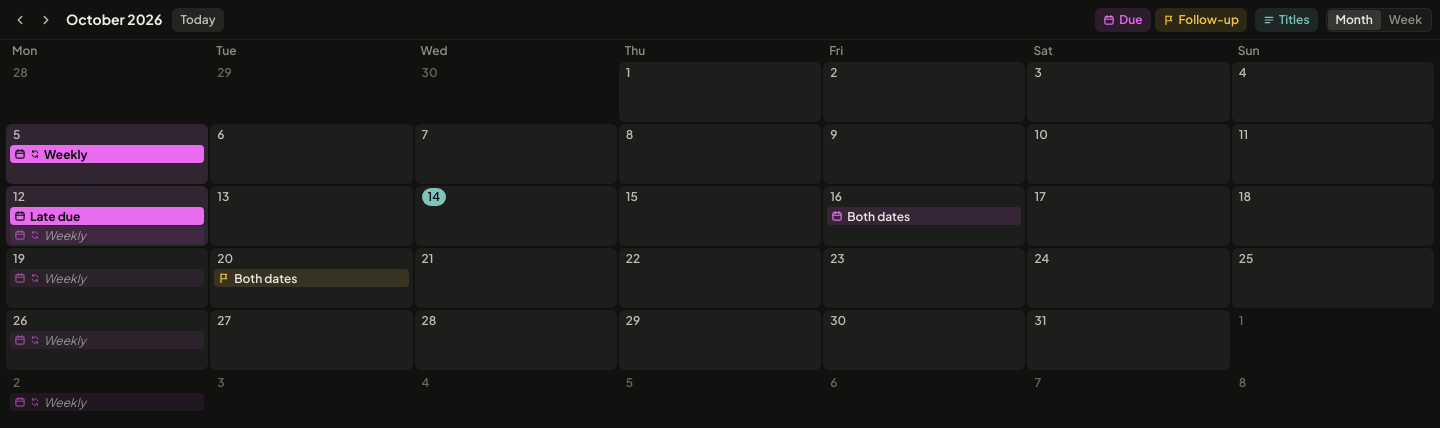
it: CalendarWidget › navigation and the view switch are view state (never unsaved)
Step 1. Click the button named "Next month" → (46, 20), box [34,8,58,32]
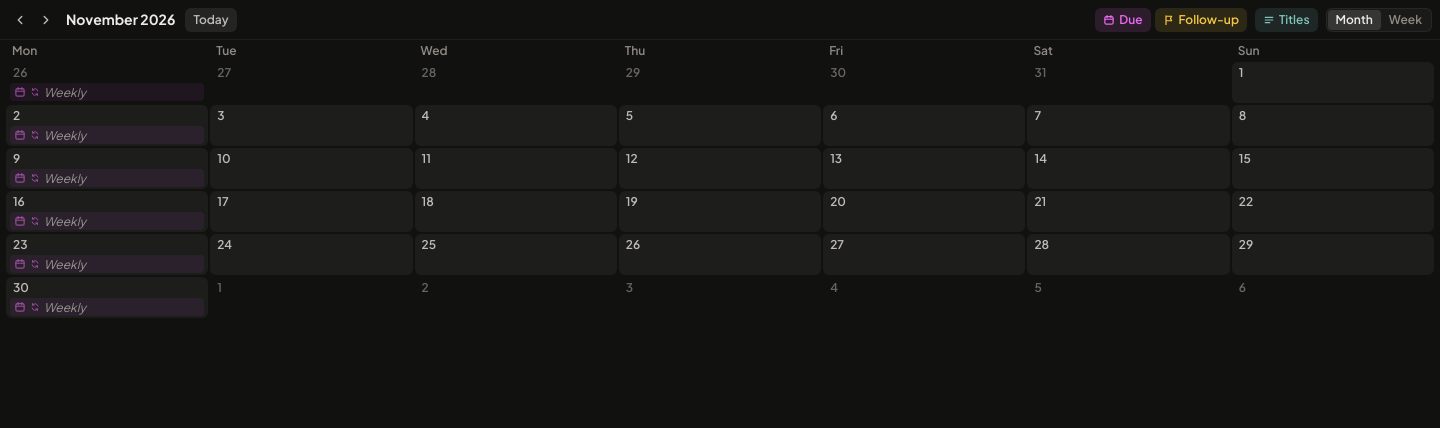
Expected: the text with test id "calendar-range-label" reads "November 2026", [66,10,175,28]
Step 2. Click the button "Today" → (211, 20), box [185,8,237,32]
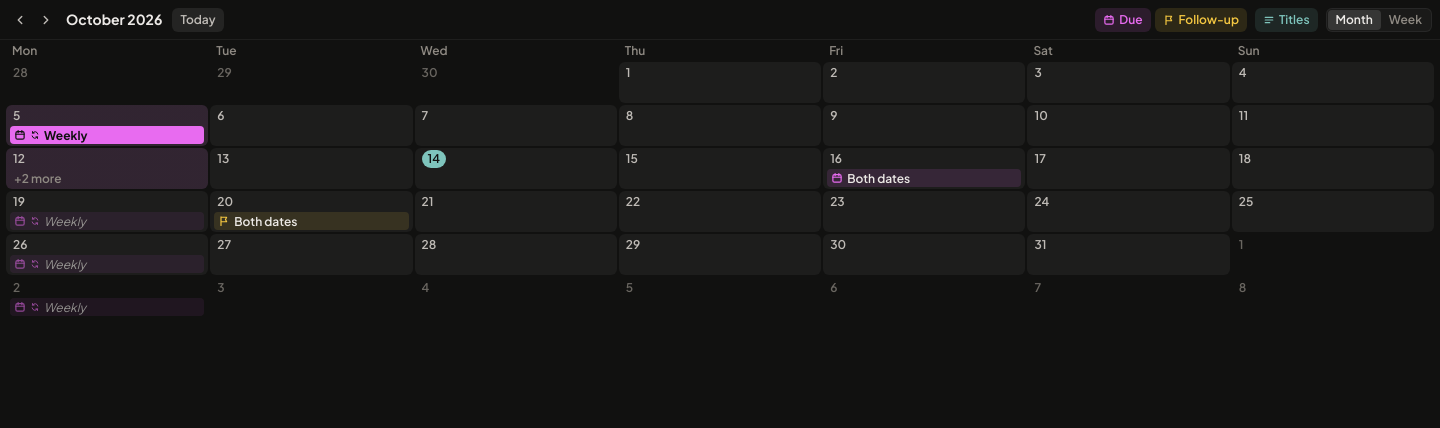
Expected: the text with test id "calendar-range-label" reads "October 2026", [66,10,162,28]
Step 3. Click the button "Week" → (1405, 20), box [1381,10,1430,30]
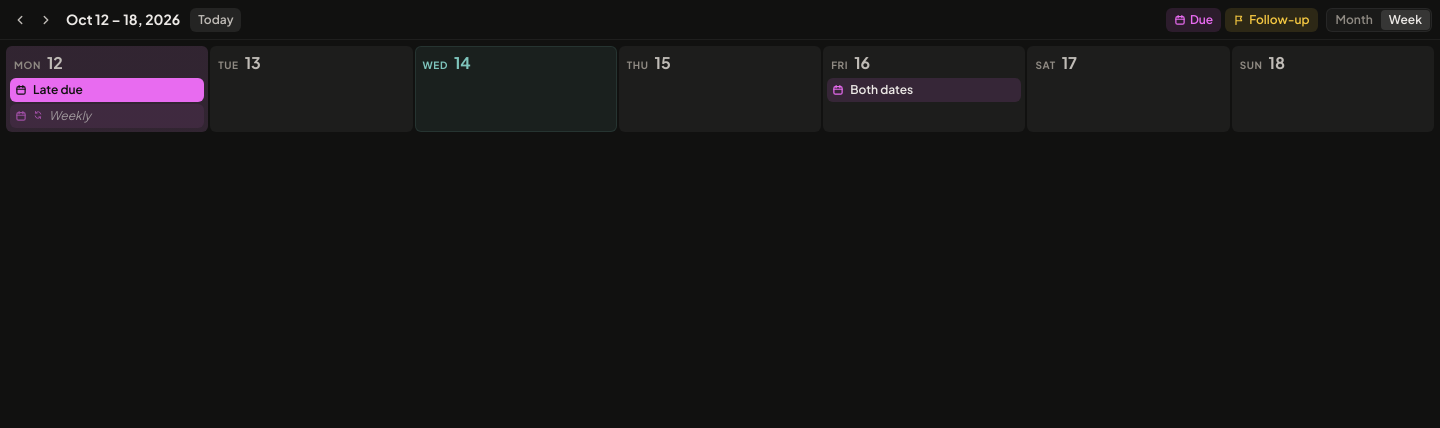
Expected: the button named "Previous week" is shown, [8,8,32,32]
Expected: the text with test id "calendar-range-label" reads "Oct 12 – 18, 2026", [66,10,180,28]
